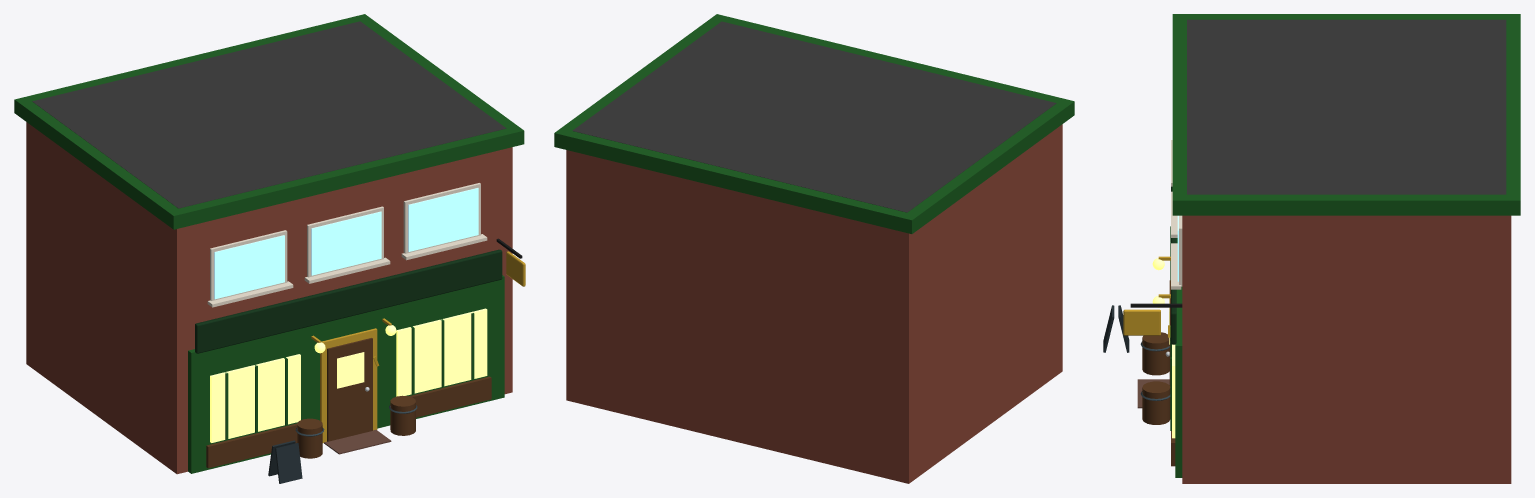
The model's file is foot_bar.glb.
3 renders of one model, left to right at view 1: azimuth 30°, elevation 25°; view 2: azimuth 150°, elevation 25°; view 3: azimuth 270°, elevation 25°, orthographic. The views are drawn at different scales.
Visible parts, largest first — view 1: FootBar_body; view 2: FootBar_body; view 3: FootBar_body.
Boxes of the visible parts, left/top/right/bottom form: FootBar_body: left=14, top=14, right=525, bottom=483; FootBar_body: left=554, top=14, right=1074, bottom=483; FootBar_body: left=1103, top=14, right=1520, bottom=483.
Bounding box in the file's own units: 9.4 × 6.75 × 8.88.
